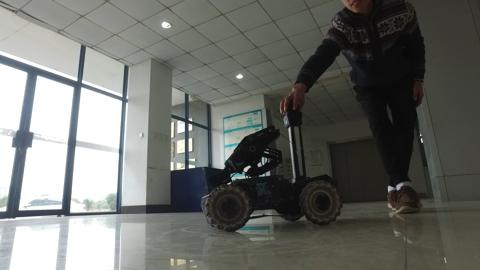chariot: (185, 81, 356, 234)
